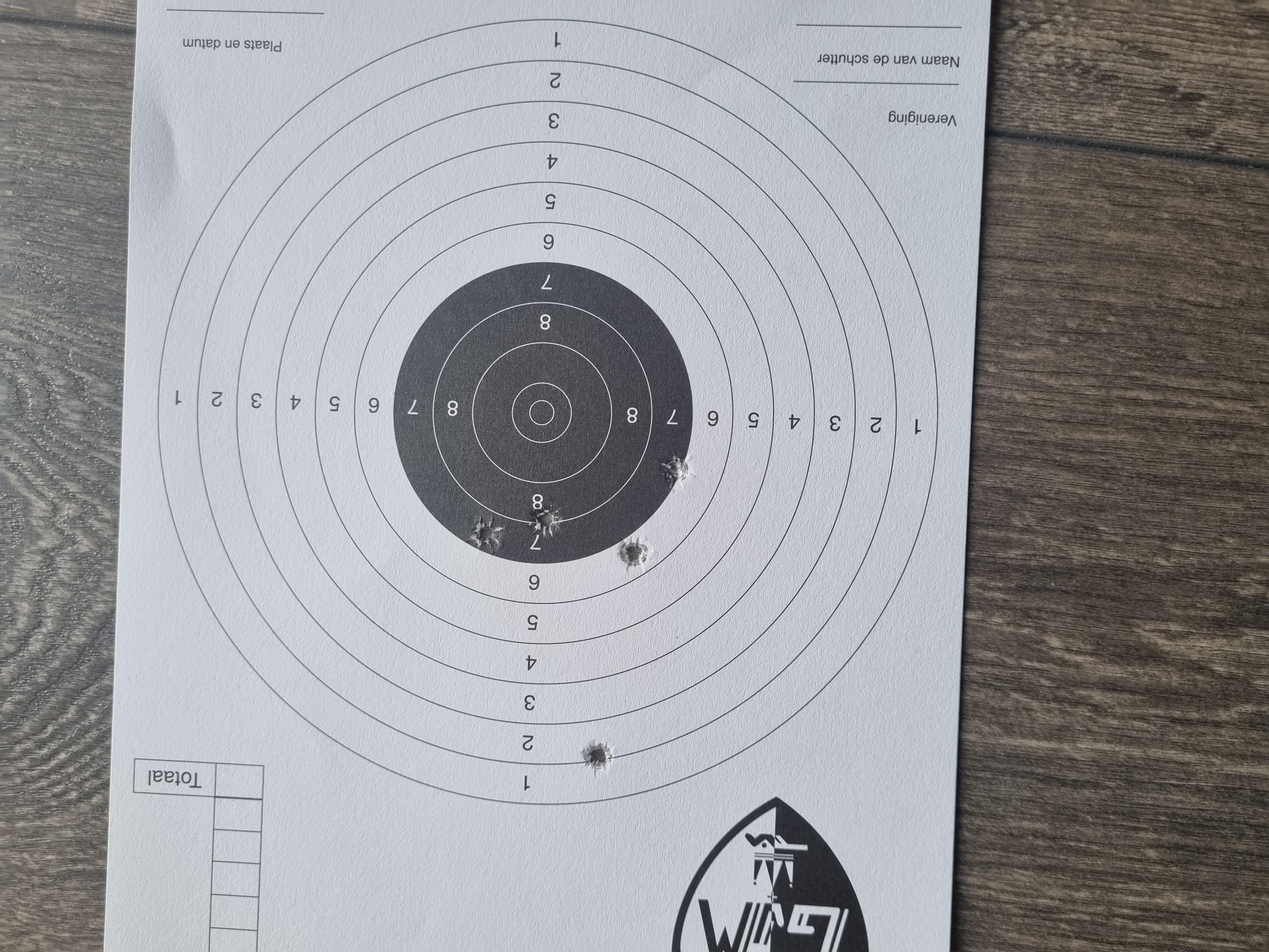hole: (535, 352, 580, 379), (508, 463, 555, 486), (553, 398, 598, 421), (616, 495, 661, 516), (240, 437, 280, 460)
